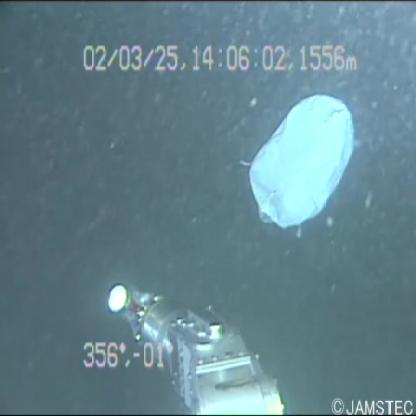Rov: (98, 275, 292, 415)
Rác: (242, 61, 360, 236)
